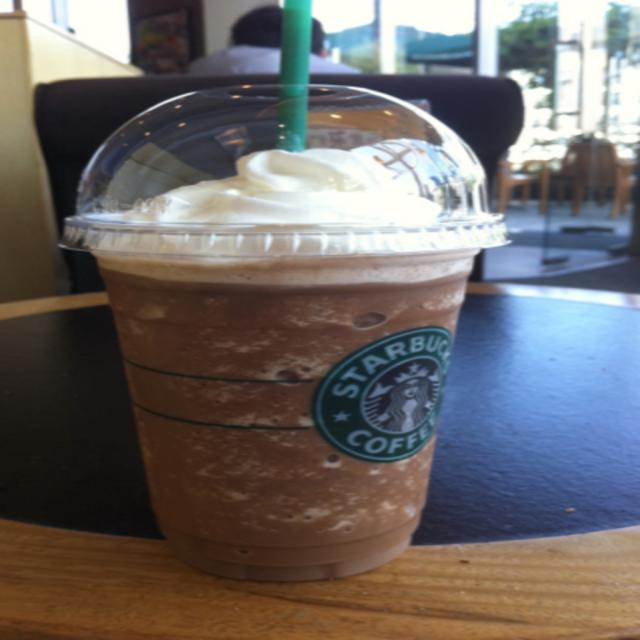Coffee: (94, 150, 488, 582)
